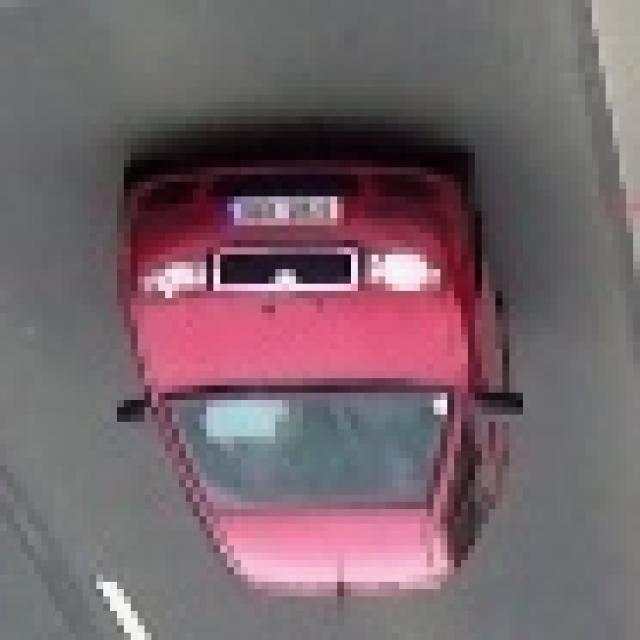red: (119, 153, 512, 593)
